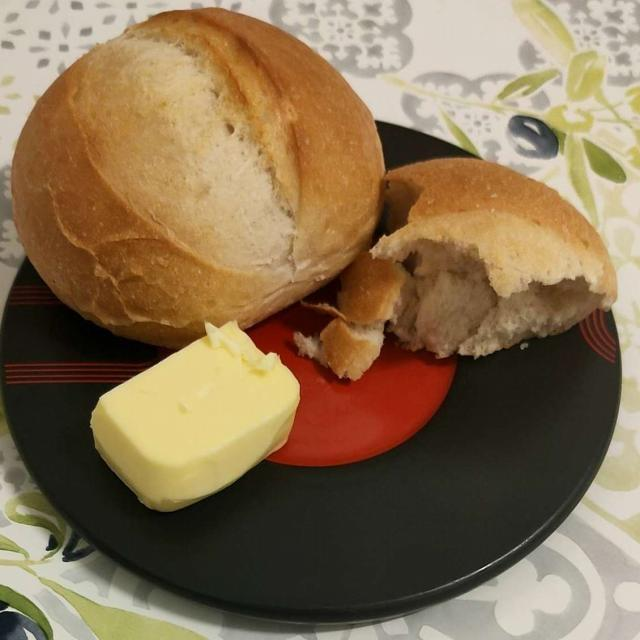bread: (7, 11, 604, 368)
butter: (95, 327, 295, 509)
